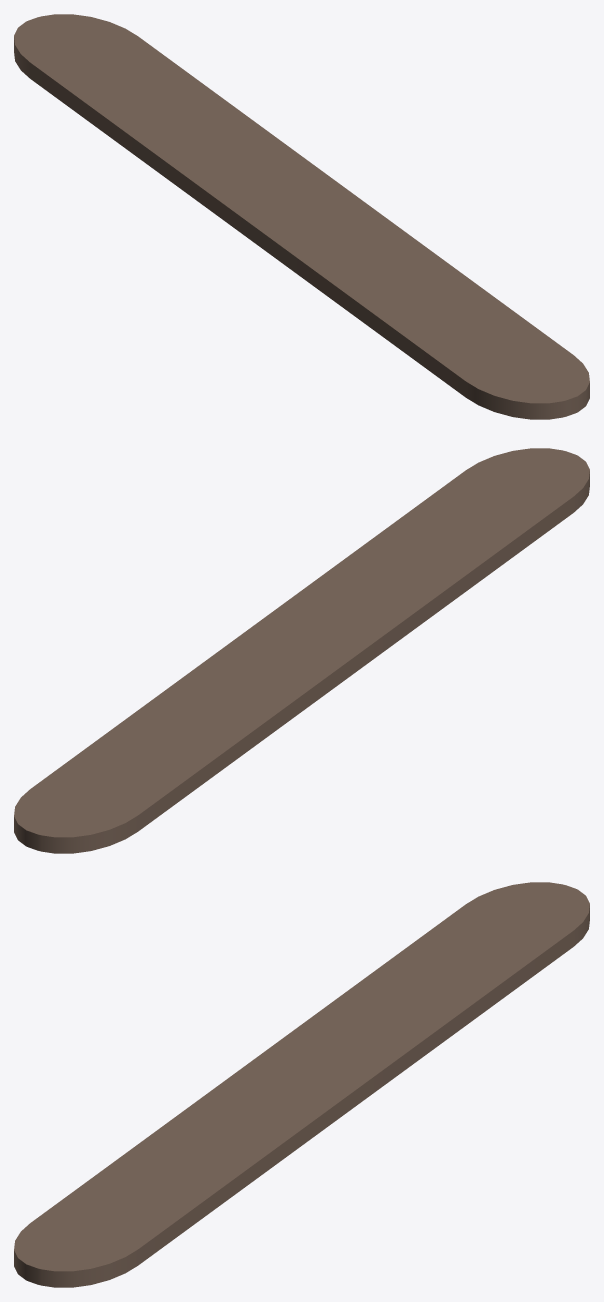
File: popsicle_stick.glb
3 views of the same model, one above another, from view 1: azimuth 30°, elevation 25°; view 2: azimuth 150°, elevation 25°; view 3: azimuth 330°, elevation 25° (orthographic).
Visible parts, largest first — view 1: Polygon; view 2: Polygon; view 3: Polygon.
Boxes of the visible parts, x1=… form: Polygon: x1=14, y1=14, x2=589, y2=419; Polygon: x1=14, y1=448, x2=589, y2=853; Polygon: x1=14, y1=882, x2=589, y2=1287.
Size of the model in its own units: 3.3 by 0.4766 by 27.82.
